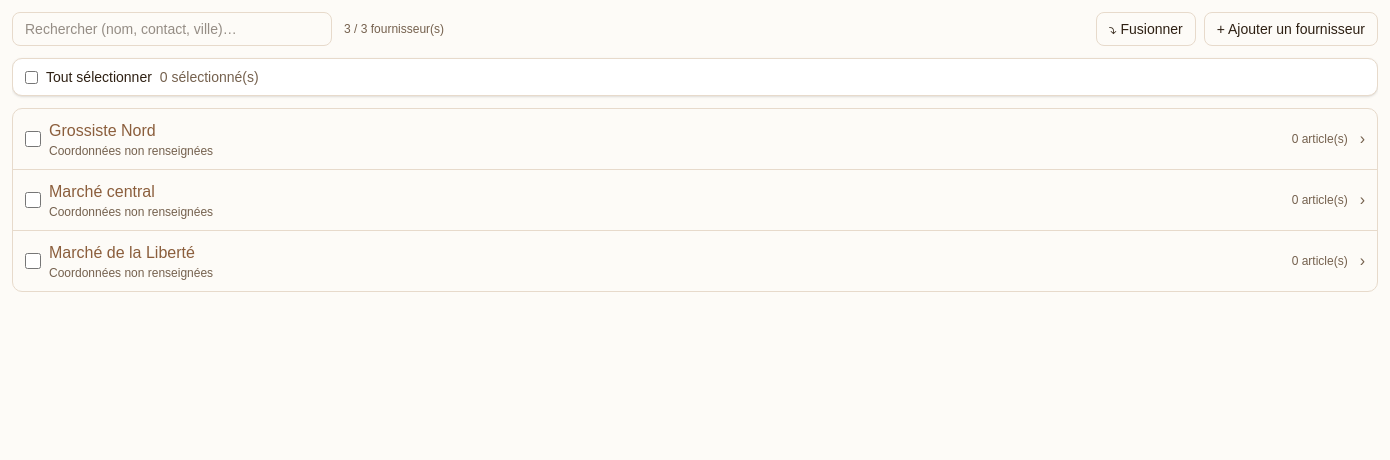
Scenario: Fournisseurs — actions groupées › deux cochés : « Fusionner les 2 » ouvre la fusion avec les deux déjà choisis
Click the checkbox named "Sélectionner Grossiste Nord" at (33, 139), box left=25, top=131, right=41, bottom=147
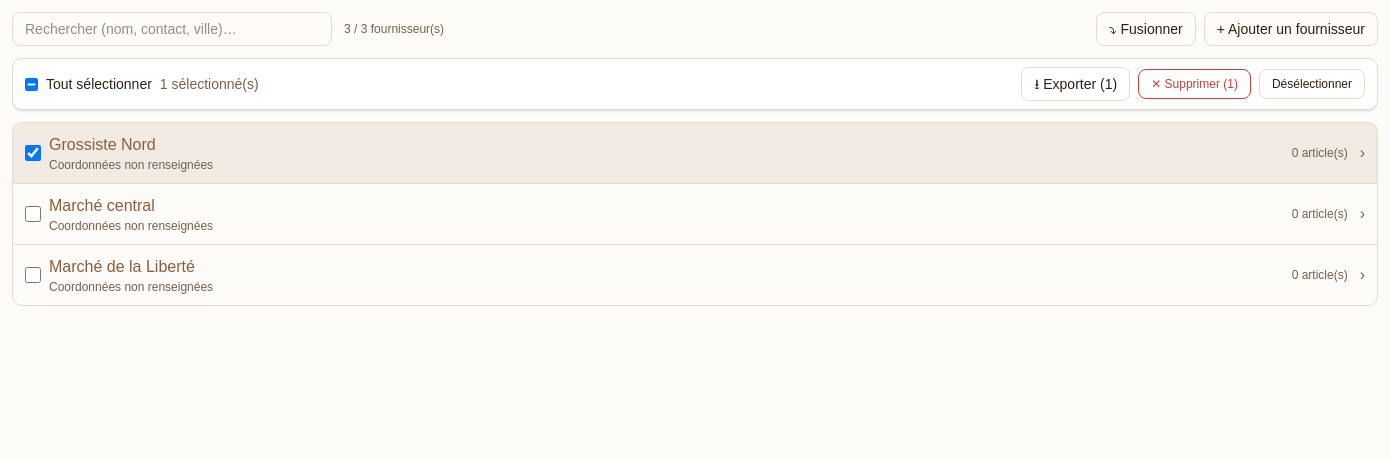
Click the checkbox named "Sélectionner Marché central" at (33, 214), box left=25, top=206, right=41, bottom=222
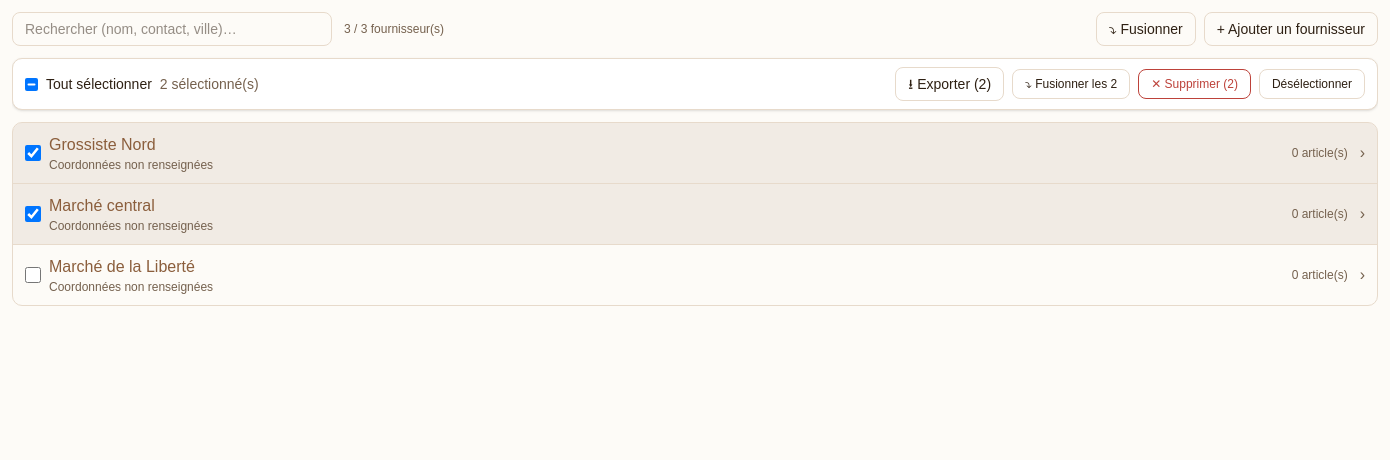
Click the button "⤵ Fusionner les 2" at (1071, 84), box left=1012, top=69, right=1130, bottom=99
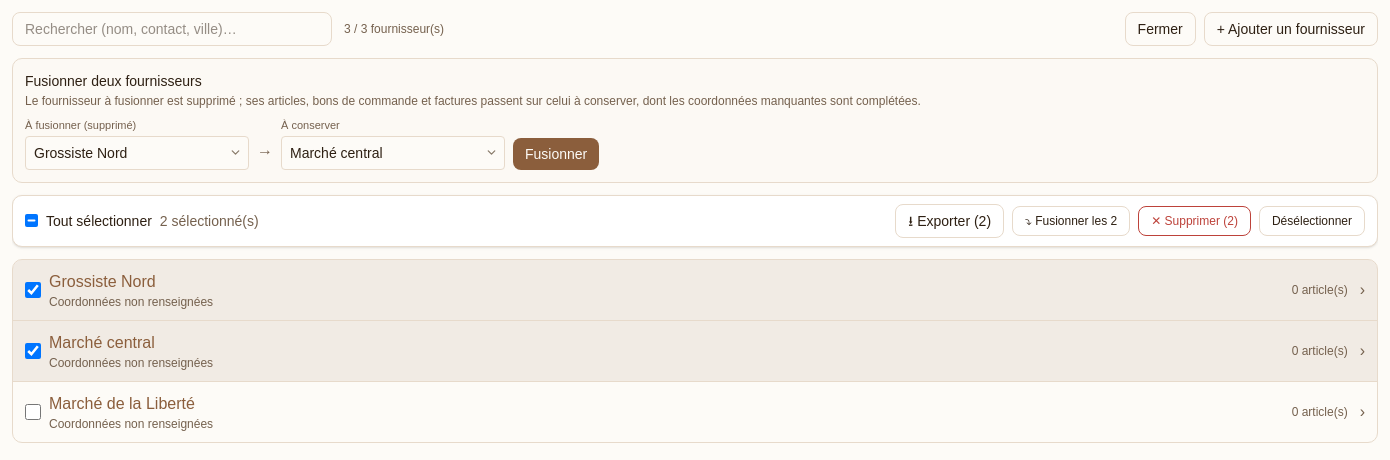
Expected: the dropdown labelled "À fusionner (supprimé)" holds "Grossiste Nord", left=25, top=136, right=249, bottom=170
Expected: the dropdown labelled "À conserver" holds "Marché central", left=281, top=136, right=505, bottom=170
